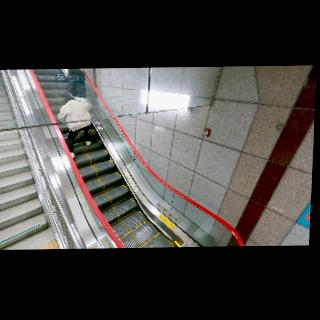normal: (56, 95, 93, 159), (64, 69, 96, 103)
